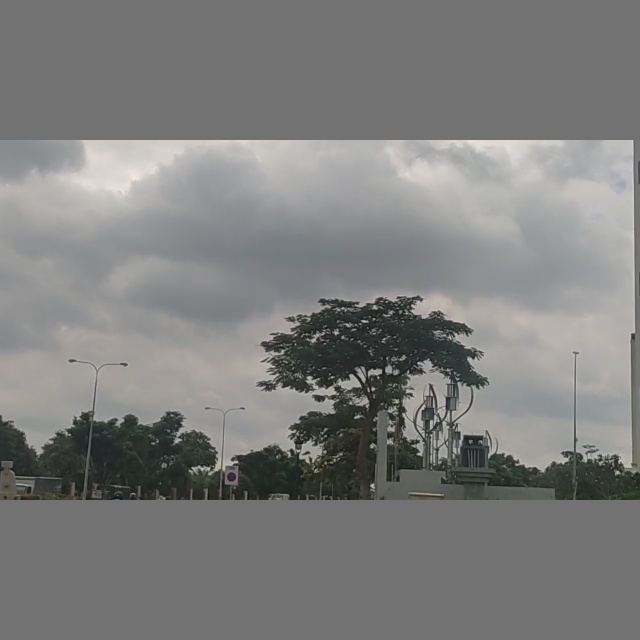P.130: (227, 471, 237, 483)
